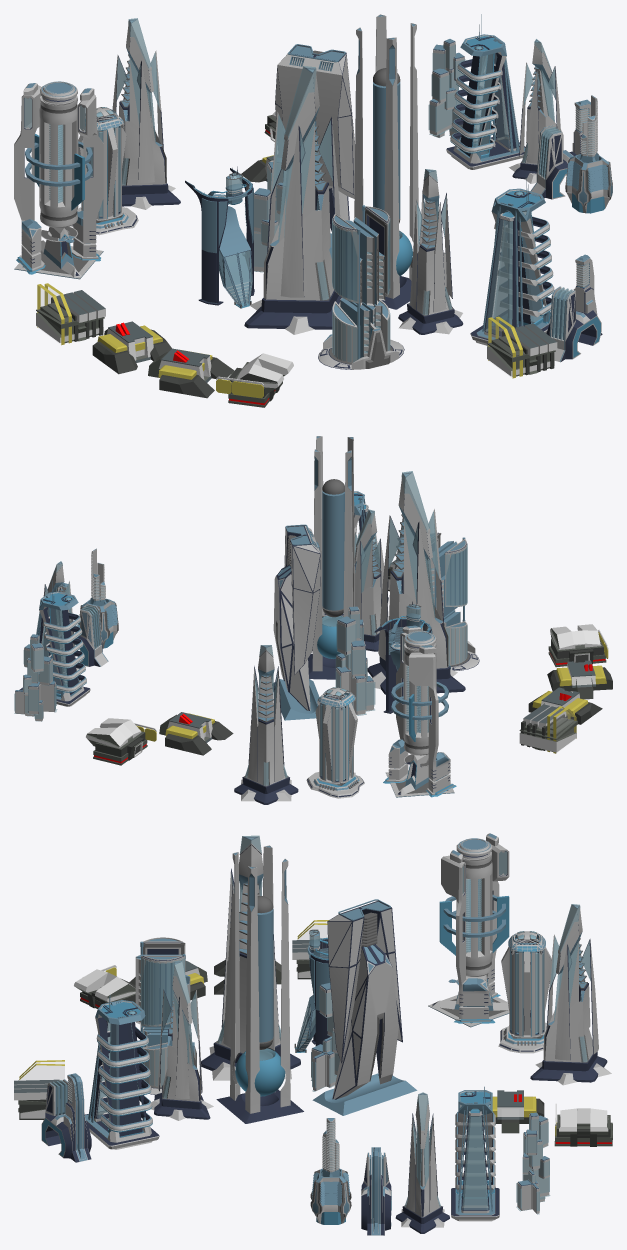
The model's file is building model latest01.glb.
3 views of the same model, one above another, from view 1: azimuth 30°, elevation 25°; view 2: azimuth 150°, elevation 25°; view 3: azimuth 270°, elevation 25° (orthographic). The views are drawn at different scales.
Parts seen in each view (by area): view 1: Obj3d66-1697227-475-479, Obj3d66-1697227-179-956, Obj3d66-1697227-104-966, Obj3d66-1697227-279-752, Obj3d66-1697227-449-237, Obj3d66-1697227-179-957, Obj3d66-1697227-179-954, Obj3d66-1697227-446-261, Obj3d66-1697227-445-935, Obj3d66-1697227-176-131, Obj3d66-1697227-177-350, Obj3d66-1697227-504-464 (+59 smaller); view 2: Obj3d66-1697227-475-479, Obj3d66-1697227-179-956, Obj3d66-1697227-279-752, Obj3d66-1697227-595-375, Obj3d66-1697227-179-957, Obj3d66-1697227-104-966, Obj3d66-1697227-103-989, Obj3d66-1697227-5-284, Obj3d66-1697227-179-954, Obj3d66-1697227-5-283, Obj3d66-1697227-176-131, Obj3d66-1697227-1-374 (+37 smaller); view 3: Obj3d66-1697227-279-752, Obj3d66-1697227-475-479, Obj3d66-1697227-104-966, Obj3d66-1697227-179-957, Obj3d66-1697227-595-375, Obj3d66-1697227-179-956, Obj3d66-1697227-504-464, Obj3d66-1697227-179-954, Obj3d66-1697227-179-955, Obj3d66-1697227-506-099, Obj3d66-1697227-280-536, Obj3d66-1697227-103-989 (+51 smaller).
Part boxes in pixels (x1,y1,x2,y2): Obj3d66-1697227-475-479: (14,81,103,278); Obj3d66-1697227-179-956: (249,68,340,334); Obj3d66-1697227-104-966: (354,14,418,298); Obj3d66-1697227-279-752: (275,54,355,220); Obj3d66-1697227-449-237: (318,206,403,369); Obj3d66-1697227-179-957: (112,19,175,209); Obj3d66-1697227-179-954: (399,170,462,334); Obj3d66-1697227-446-261: (332,218,390,362); Obj3d66-1697227-445-935: (333,217,389,357); Obj3d66-1697227-176-131: (271,66,332,300); Obj3d66-1697227-177-350: (244,68,341,329); Obj3d66-1697227-504-464: (471,191,551,339); Obj3d66-1697227-475-479: (386,626,454,796); Obj3d66-1697227-179-956: (372,472,457,689); Obj3d66-1697227-279-752: (273,526,320,710); Obj3d66-1697227-595-375: (306,687,364,798); Obj3d66-1697227-179-957: (241,646,291,801); Obj3d66-1697227-104-966: (312,436,354,671); Obj3d66-1697227-103-989: (314,456,351,610); Obj3d66-1697227-5-284: (336,607,373,714); Obj3d66-1697227-179-954: (354,511,388,635); Obj3d66-1697227-5-283: (15,635,55,721); Obj3d66-1697227-176-131: (388,471,438,618); Obj3d66-1697227-1-374: (335,611,375,715); Obj3d66-1697227-279-752: (327,909,401,1099); Obj3d66-1697227-475-479: (428,833,509,1026); Obj3d66-1697227-104-966: (230,845,290,1113); Obj3d66-1697227-179-957: (535,905,611,1085); Obj3d66-1697227-595-375: (498,931,551,1053); Obj3d66-1697227-179-956: (209,837,291,1080); Obj3d66-1697227-504-464: (84,1005,158,1145); Obj3d66-1697227-179-954: (151,962,213,1120); Obj3d66-1697227-179-955: (401,1095,444,1227); Obj3d66-1697227-506-099: (86,1001,159,1149); Obj3d66-1697227-280-536: (327,901,402,1099); Obj3d66-1697227-103-989: (247,868,287,1042).
Size of the model in its own units: 0.9463 by 0.4199 by 0.8898.
